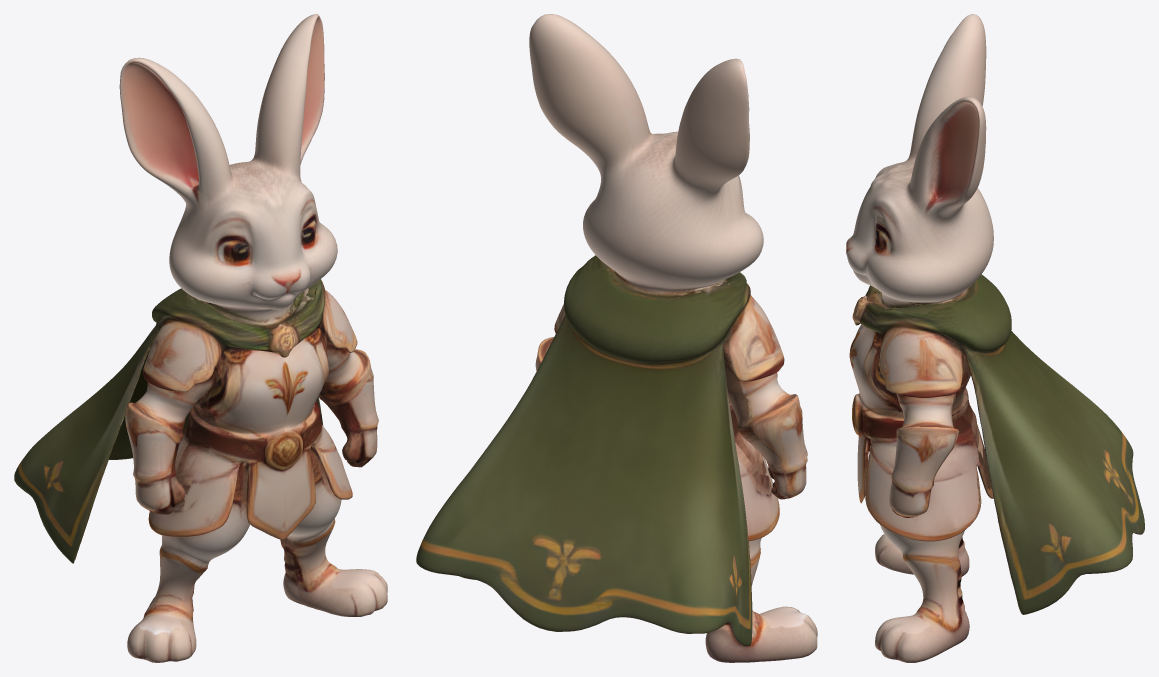
File: bunny-knight.glb
The picture shows the model from 3 angles, left to right: view 1: azimuth 30°, elevation 25°; view 2: azimuth 150°, elevation 25°; view 3: azimuth 270°, elevation 25°; orthographic projection. The views are drawn at different scales.
Visible parts, largest first — view 1: model; view 2: model; view 3: model.
Part boxes in pixels (box(x1,y1,x2,y2)): model: box(14, 14, 387, 662); model: box(416, 14, 817, 662); model: box(846, 14, 1144, 662).
Size of the model in its own units: 0.9736 by 1.9 by 0.9387.
Materials: 1 (1 with a texture image).
